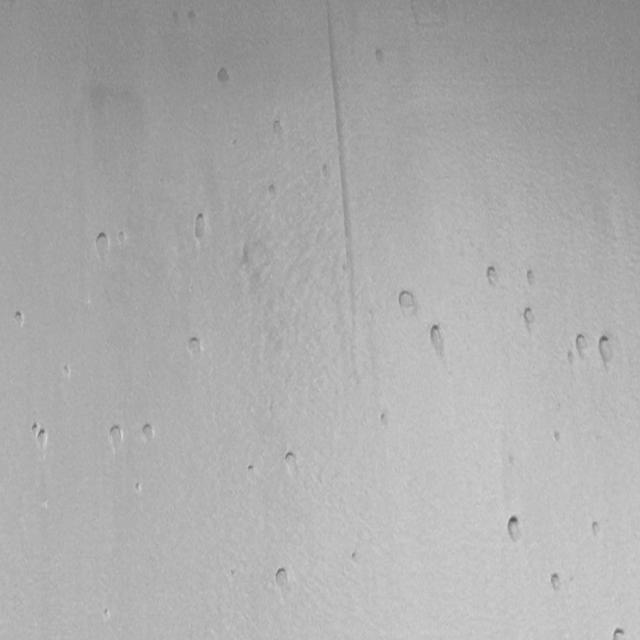pin holes: (423, 321, 448, 361), (594, 332, 619, 371), (394, 287, 419, 317), (570, 332, 593, 364), (504, 514, 526, 546), (191, 211, 212, 244), (90, 230, 112, 261), (105, 422, 126, 452), (183, 334, 205, 362), (273, 565, 294, 593), (31, 423, 52, 451), (279, 450, 300, 476), (215, 64, 235, 88), (548, 570, 567, 595), (484, 264, 503, 288), (270, 118, 288, 142), (138, 423, 156, 446), (520, 304, 537, 328), (523, 268, 539, 292), (588, 517, 604, 541), (377, 408, 393, 431), (11, 309, 29, 329), (373, 46, 388, 68), (612, 625, 632, 640), (187, 7, 201, 27), (60, 363, 74, 382), (266, 183, 280, 200), (320, 162, 332, 181), (118, 230, 130, 247), (551, 431, 564, 446), (348, 549, 361, 564), (100, 608, 112, 624), (244, 464, 257, 477), (132, 480, 144, 494), (228, 568, 240, 581)
